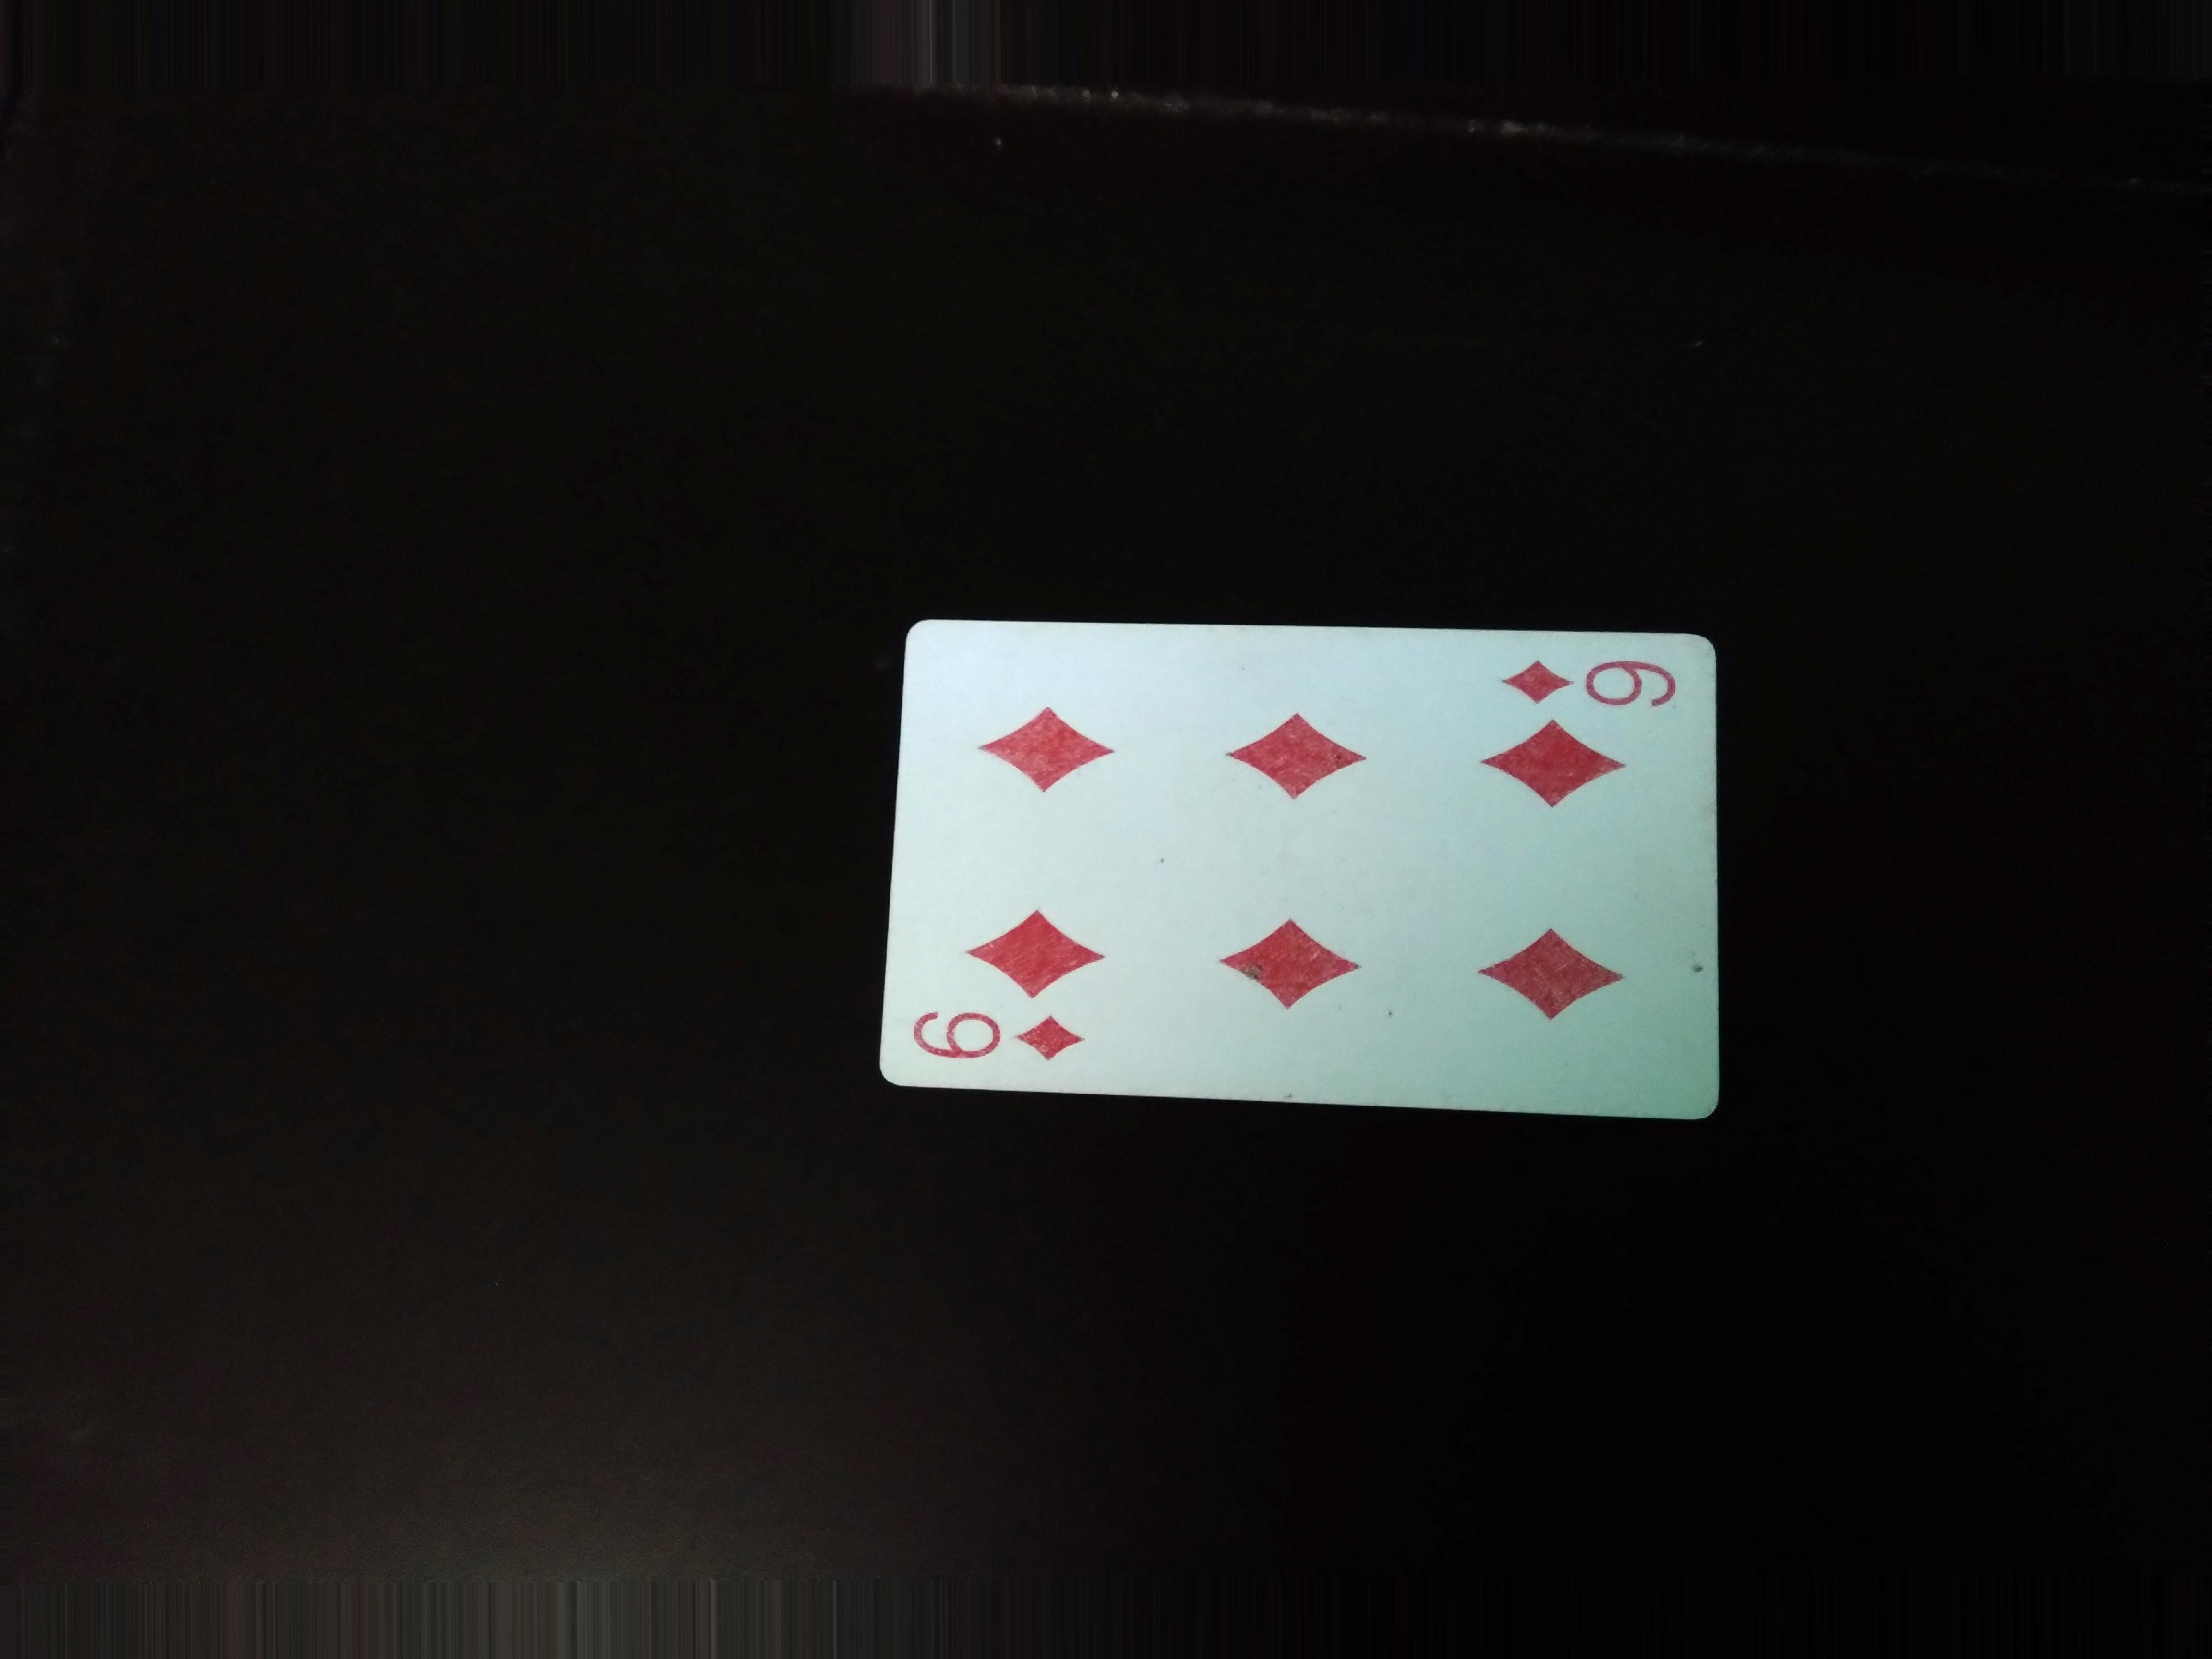6D: (895, 993, 1109, 1093)
